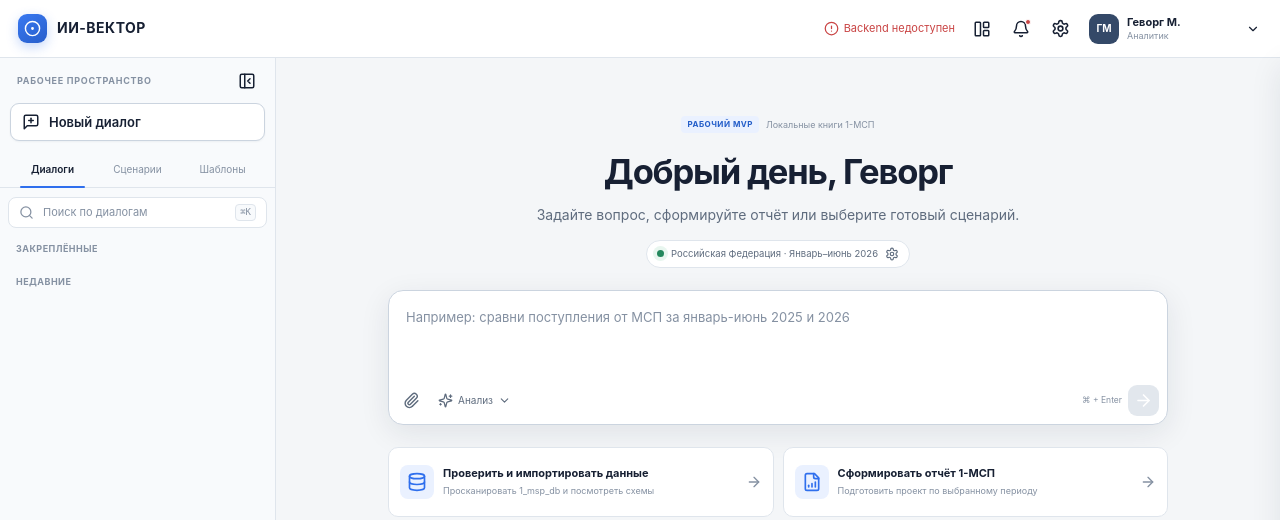
ИИ-ВЕКТОР › returns to the start workspace from the brand button
Click the button "Сформировать отчёт 1-МСП". click: {"x": 975, "y": 482}
box: 782,447 -> 1168,517
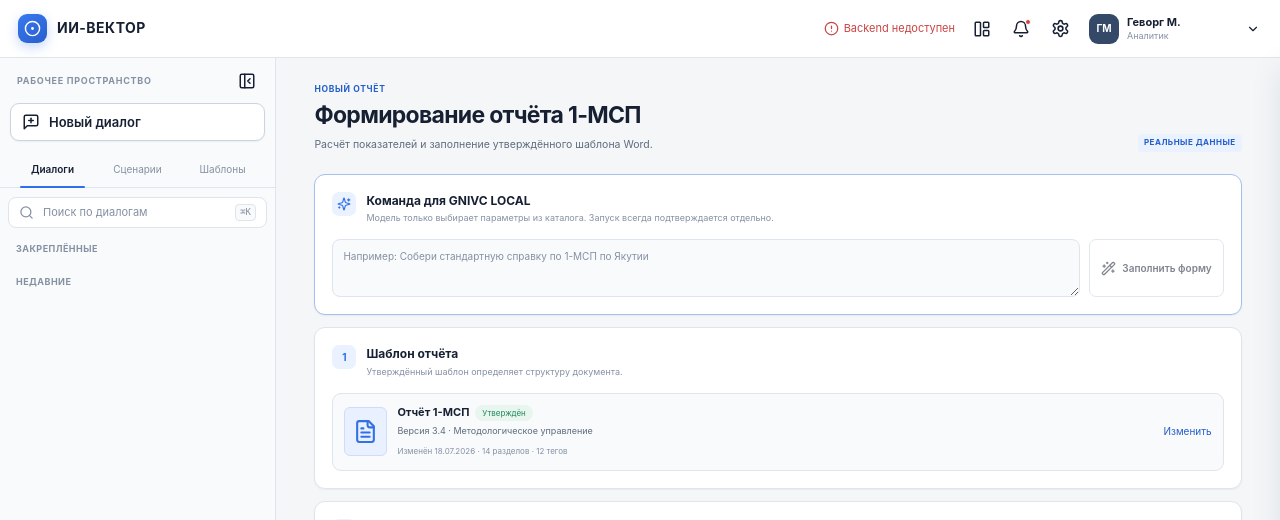
Result: the heading "Формирование отчёта 1-МСП" is shown at 314,99 -> 653,133
Click the button with aria-label "Перейти на главную страницу ИИ-ВЕКТОР". click: {"x": 82, "y": 28}
box: 18,14 -> 146,43
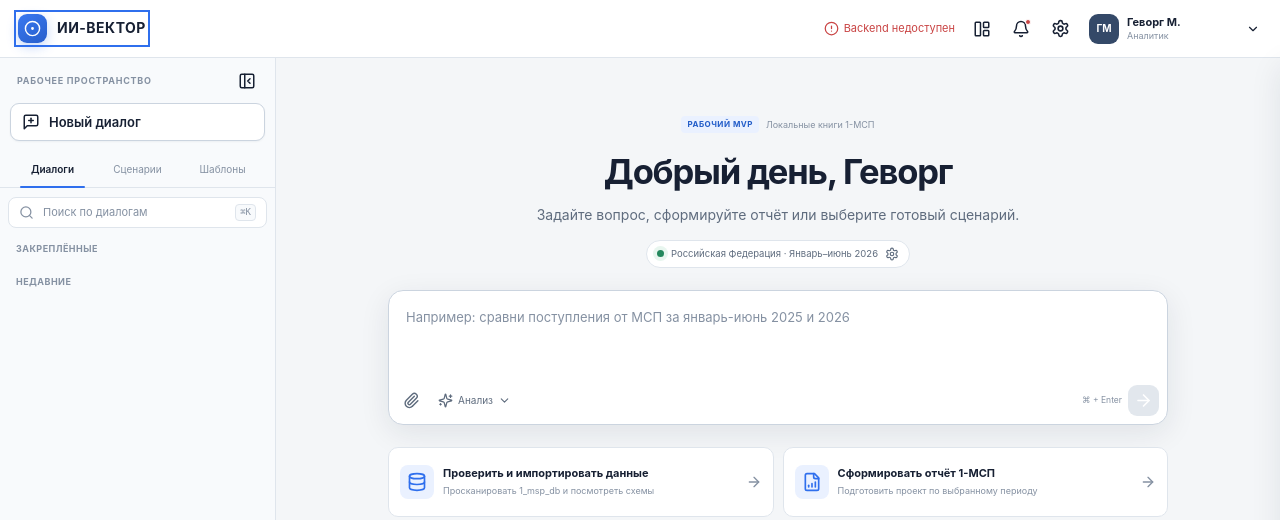
Result: the heading "Добрый день, Геворг" is shown at 604,151 -> 952,192
